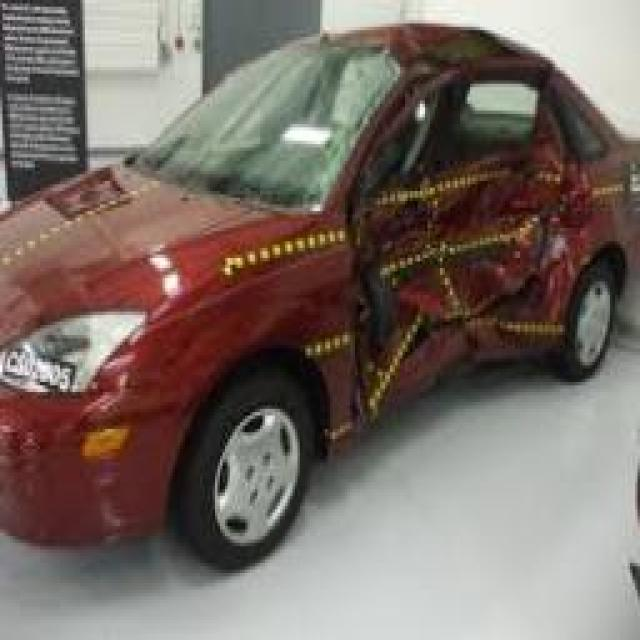Door: (345, 59, 575, 443)
